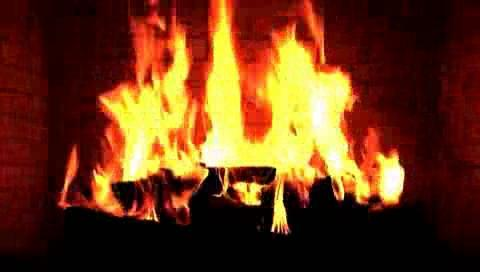fire: (101, 15, 409, 225)
